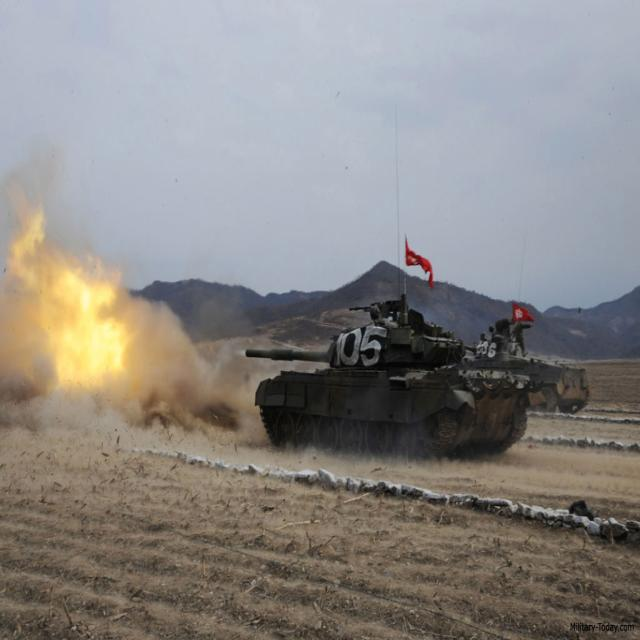Tank: (232, 289, 524, 459), (469, 325, 590, 411)
